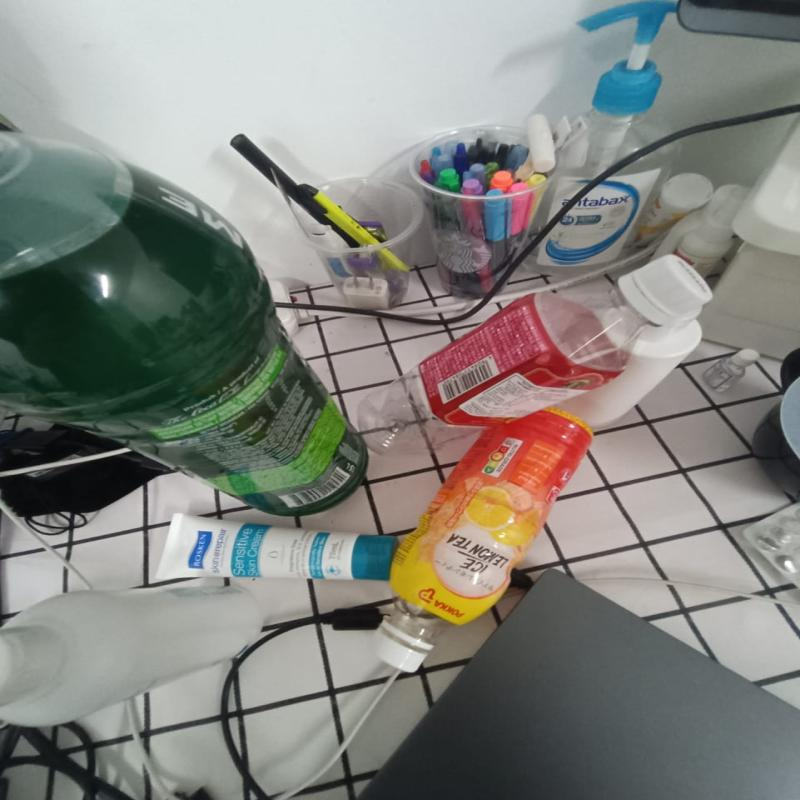botella: (1, 128, 369, 520), (348, 249, 706, 476), (364, 409, 599, 675)
